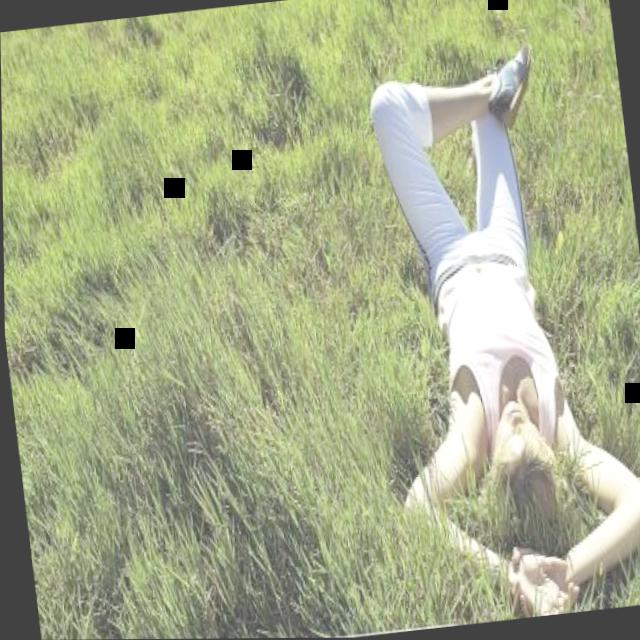Fall-Detected: (333, 17, 640, 622)
